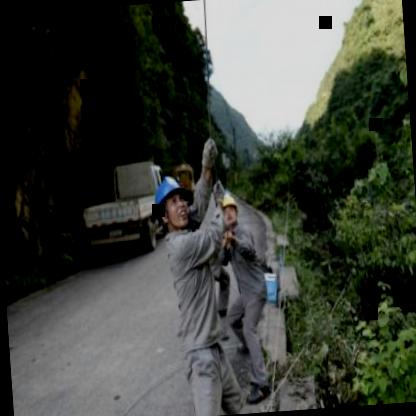helmet: (150, 167, 197, 235), (215, 191, 241, 231)
